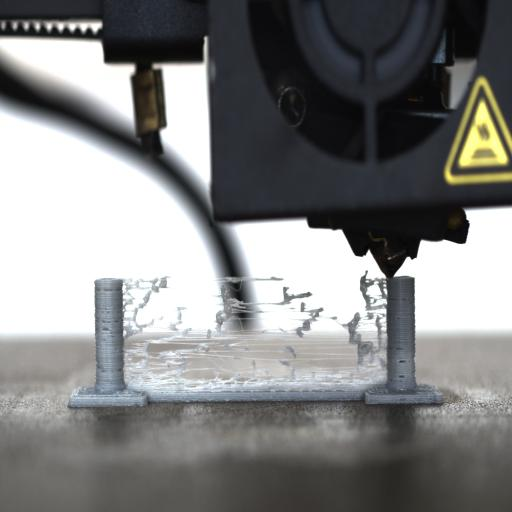stringing: (122, 274, 324, 390), (121, 276, 173, 337), (361, 270, 388, 308), (282, 286, 314, 302)
